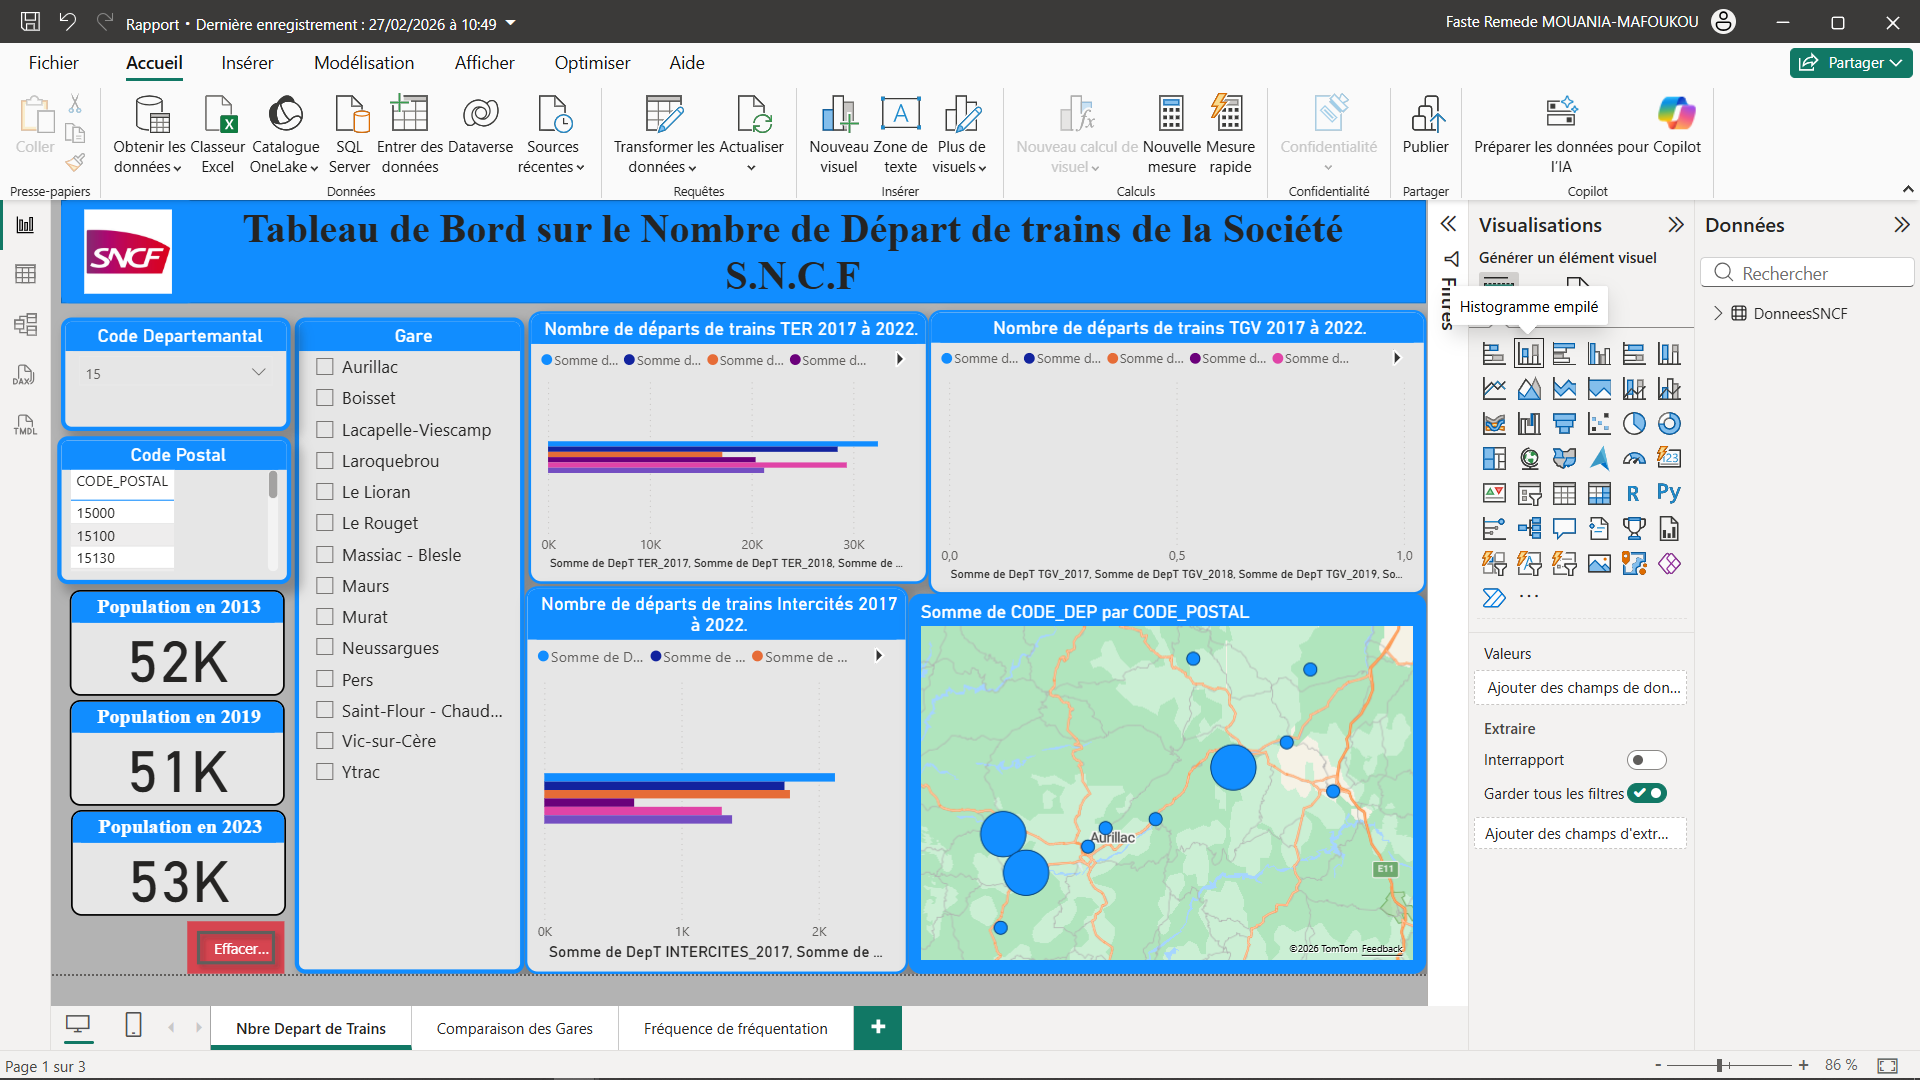

This screenshot's page, from the dashboard's own definition file:
{"tool":"powerbi","page":{"name":"Nbre Depart de Trains","canvas":[1280,720],"ordinal":0},"visuals":[{"type":"shape","box":[9.4,0,1269.9,96.4],"z":0},{"type":"image","box":[9.4,0,124.7,96.4],"z":1000},{"type":"slicer","title":"Gare","fields":{"Values":["DonneesSNCF.GARE"]},"box":[226.8,109.6,213.5,610.4],"z":2000},{"type":"slicer","title":"Code Departemantal","fields":{"Values":["DonneesSNCF.CODE_DEP"]},"box":[9.4,109.6,213.5,105.8],"z":3000},{"type":"tableEx","title":"Code Postal","fields":{"Values":["DonneesSNCF.CODE_POSTAL"]},"box":[5.7,219.2,217.3,138],"z":4000},{"type":"clusteredBarChart","title":"Nombre de départs de trains  TER 2017 à 2022.","fields":{"Y":["Sum(DonneesSNCF.DepT TER_2017)","Sum(DonneesSNCF.DepT TER_2018)","Sum(DonneesSNCF.DepT TER_2019)","Sum(DonneesSNCF.DepT TER_2020)","Sum(DonneesSNCF.DepT TER_2021)","Sum(DonneesSNCF.DepT TER_2022)"]},"box":[444.1,103.9,372.3,253.2],"z":5000},{"type":"clusteredBarChart","title":"Nombre de départs de trains  TGV 2017 à 2022.","fields":{"Y":["Sum(DonneesSNCF.DepT TGV_2017)","Sum(DonneesSNCF.DepT TGV_2018)","Sum(DonneesSNCF.DepT TGV_2019)","Sum(DonneesSNCF.DepT TGV_2020)","Sum(DonneesSNCF.DepT TGV_2021)","Sum(DonneesSNCF.DepT TGV_2022)"]},"box":[816.4,102,463,264.6],"z":6000},{"type":"clusteredBarChart","title":"Nombre de départs de trains Intercités 2017 à 2022.","fields":{"Y":["Sum(DonneesSNCF.DepT INTERCITES_2017)","Sum(DonneesSNCF.DepT INTERCITES_2018)","Sum(DonneesSNCF.DepT INTERCITES_2019)","Sum(DonneesSNCF.DepT INTERCITES_2020)","Sum(DonneesSNCF.DepT INTERCITES_2021)","Sum(DonneesSNCF.DepT INTERCITES_2022)"]},"box":[446,359.1,351.5,360.9],"z":7000},{"type":"map","fields":{"Size":["Sum(DonneesSNCF.CODE_DEP)"],"Category":["DonneesSNCF.CODE_POSTAL"]},"box":[797.5,366.6,481.9,353.4],"z":8000},{"type":"textbox","box":[147.4,0,1084.7,96.4],"z":9000},{"type":"card","title":"Population en 2019","fields":{"Values":["Sum(DonneesSNCF.POP_2019)"]},"box":[17,464.9,200.3,98.3],"z":10000},{"type":"card","title":"Population en 2013","fields":{"Values":["Sum(DonneesSNCF.POP_2013)"]},"box":[17,362.8,200.3,98.3],"z":11000},{"type":"card","title":"Population en 2023","fields":{"Values":["Sum(DonneesSNCF.POP_2023)"]},"box":[18.9,566.9,200.3,98.3],"z":12000},{"type":"actionButton","box":[126.6,670.9,90.7,49.1],"z":13000}]}

Visuals, with their boxes on the page's 1280x720 design canvas (x1, y1, x2, y2). These are canvas units, not pixel positions in the 1920x1080 screenshot, which may show the page scaled, cropped or inside an application window:
shape: <box>9,0,1279,96</box>
image: <box>9,0,134,96</box>
"Gare" slicer: <box>227,110,440,720</box>
"Code Departemantal" slicer: <box>9,110,223,215</box>
"Code Postal" tableEx: <box>6,219,223,357</box>
"Nombre de départs de trains  TER 2017 à 2022." clusteredBarChart: <box>444,104,816,357</box>
"Nombre de départs de trains  TGV 2017 à 2022." clusteredBarChart: <box>816,102,1279,367</box>
"Nombre de départs de trains Intercités 2017 à 2022." clusteredBarChart: <box>446,359,798,720</box>
map - Sum(DonneesSNCF.CODE_DEP) x DonneesSNCF.CODE_POSTAL: <box>798,367,1279,720</box>
textbox: <box>147,0,1232,96</box>
"Population en 2019" card: <box>17,465,217,563</box>
"Population en 2013" card: <box>17,363,217,461</box>
"Population en 2023" card: <box>19,567,219,665</box>
actionButton: <box>127,671,217,720</box>
